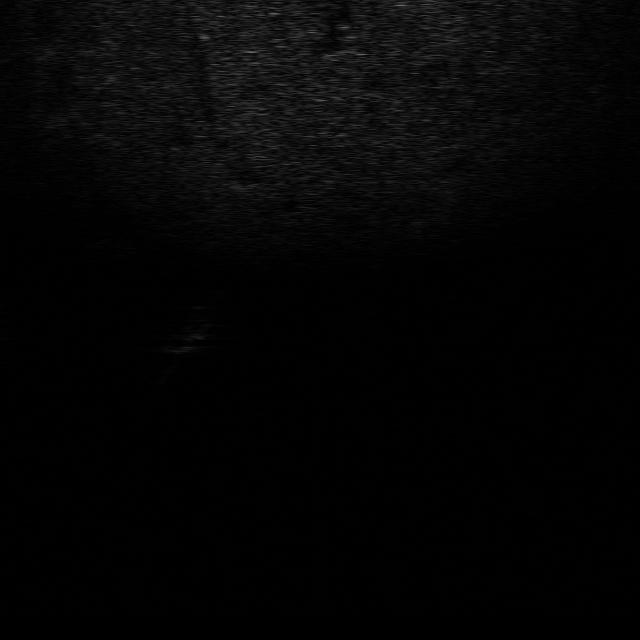human body: (141, 300, 221, 387)
